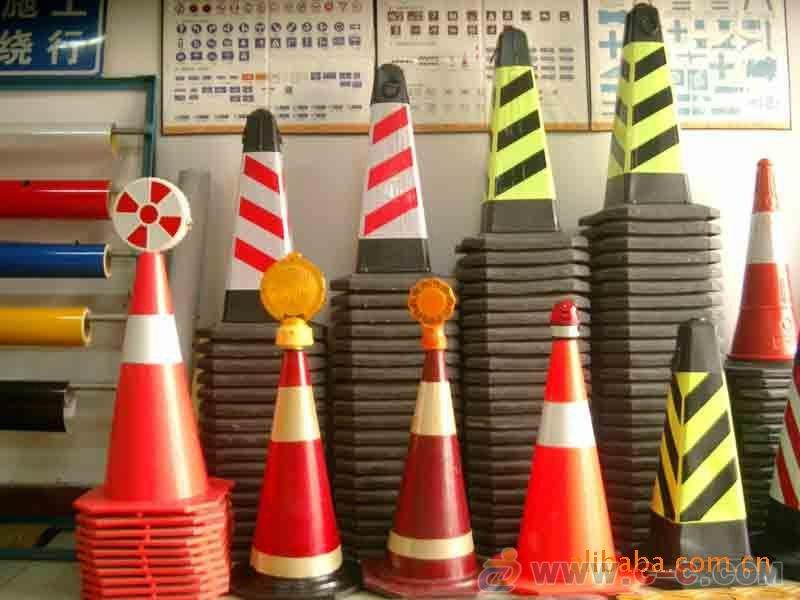cone_barrel: (80, 233, 216, 502), (508, 306, 626, 589), (644, 316, 768, 578), (380, 299, 483, 596), (246, 325, 351, 590), (580, 11, 704, 223), (456, 31, 580, 241), (343, 73, 439, 286), (214, 104, 302, 313), (724, 162, 798, 385), (768, 326, 798, 536)
